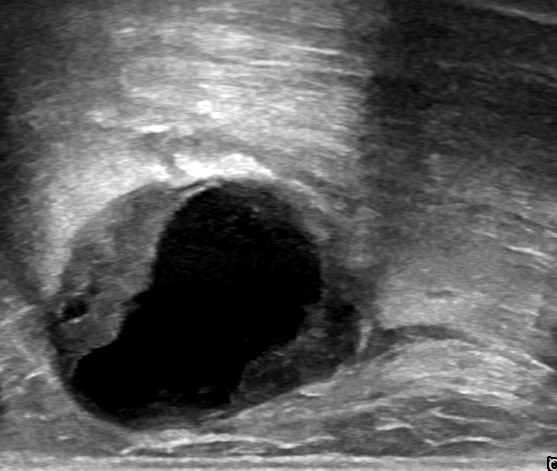Benign: (121, 184, 322, 411)
